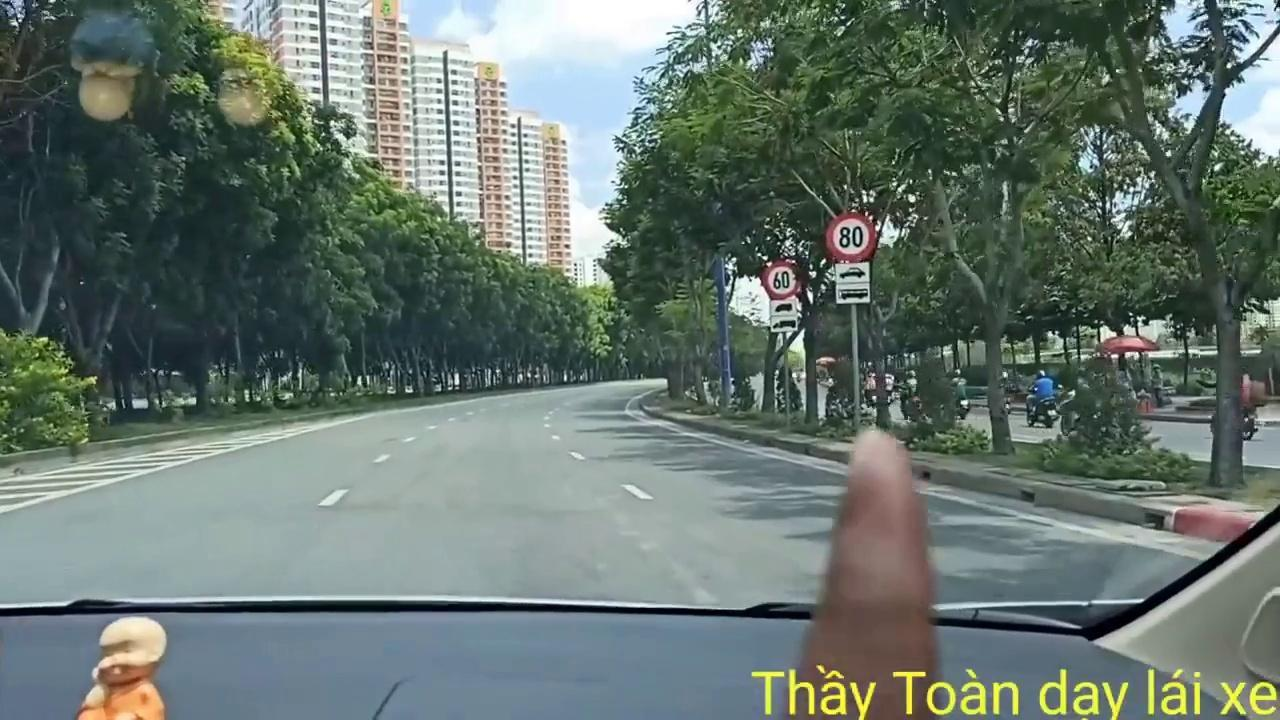Biển phụ: (834, 264, 870, 302), (767, 298, 798, 332)
GIơi hạn tốc độ 60Km/h: (761, 258, 803, 300)
Giới hạn tốc độ 80Km/h: (822, 210, 876, 263)
